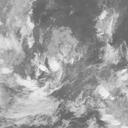cyclone: (28, 41, 68, 99)
